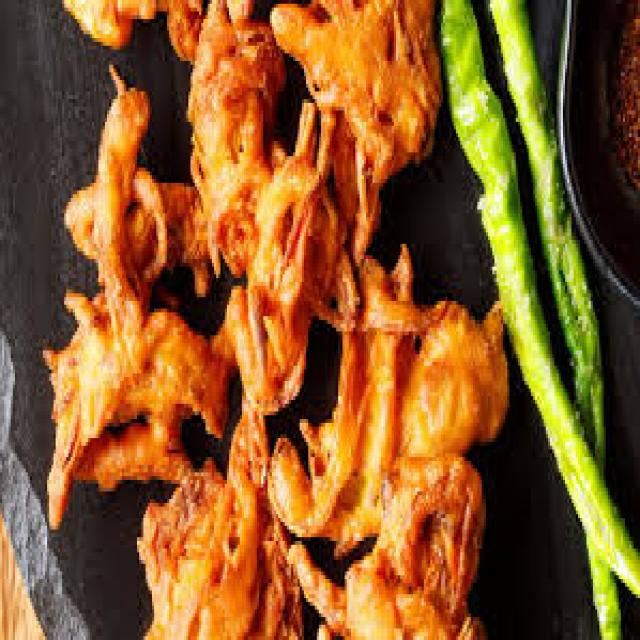BAJI: (37, 0, 512, 636)
